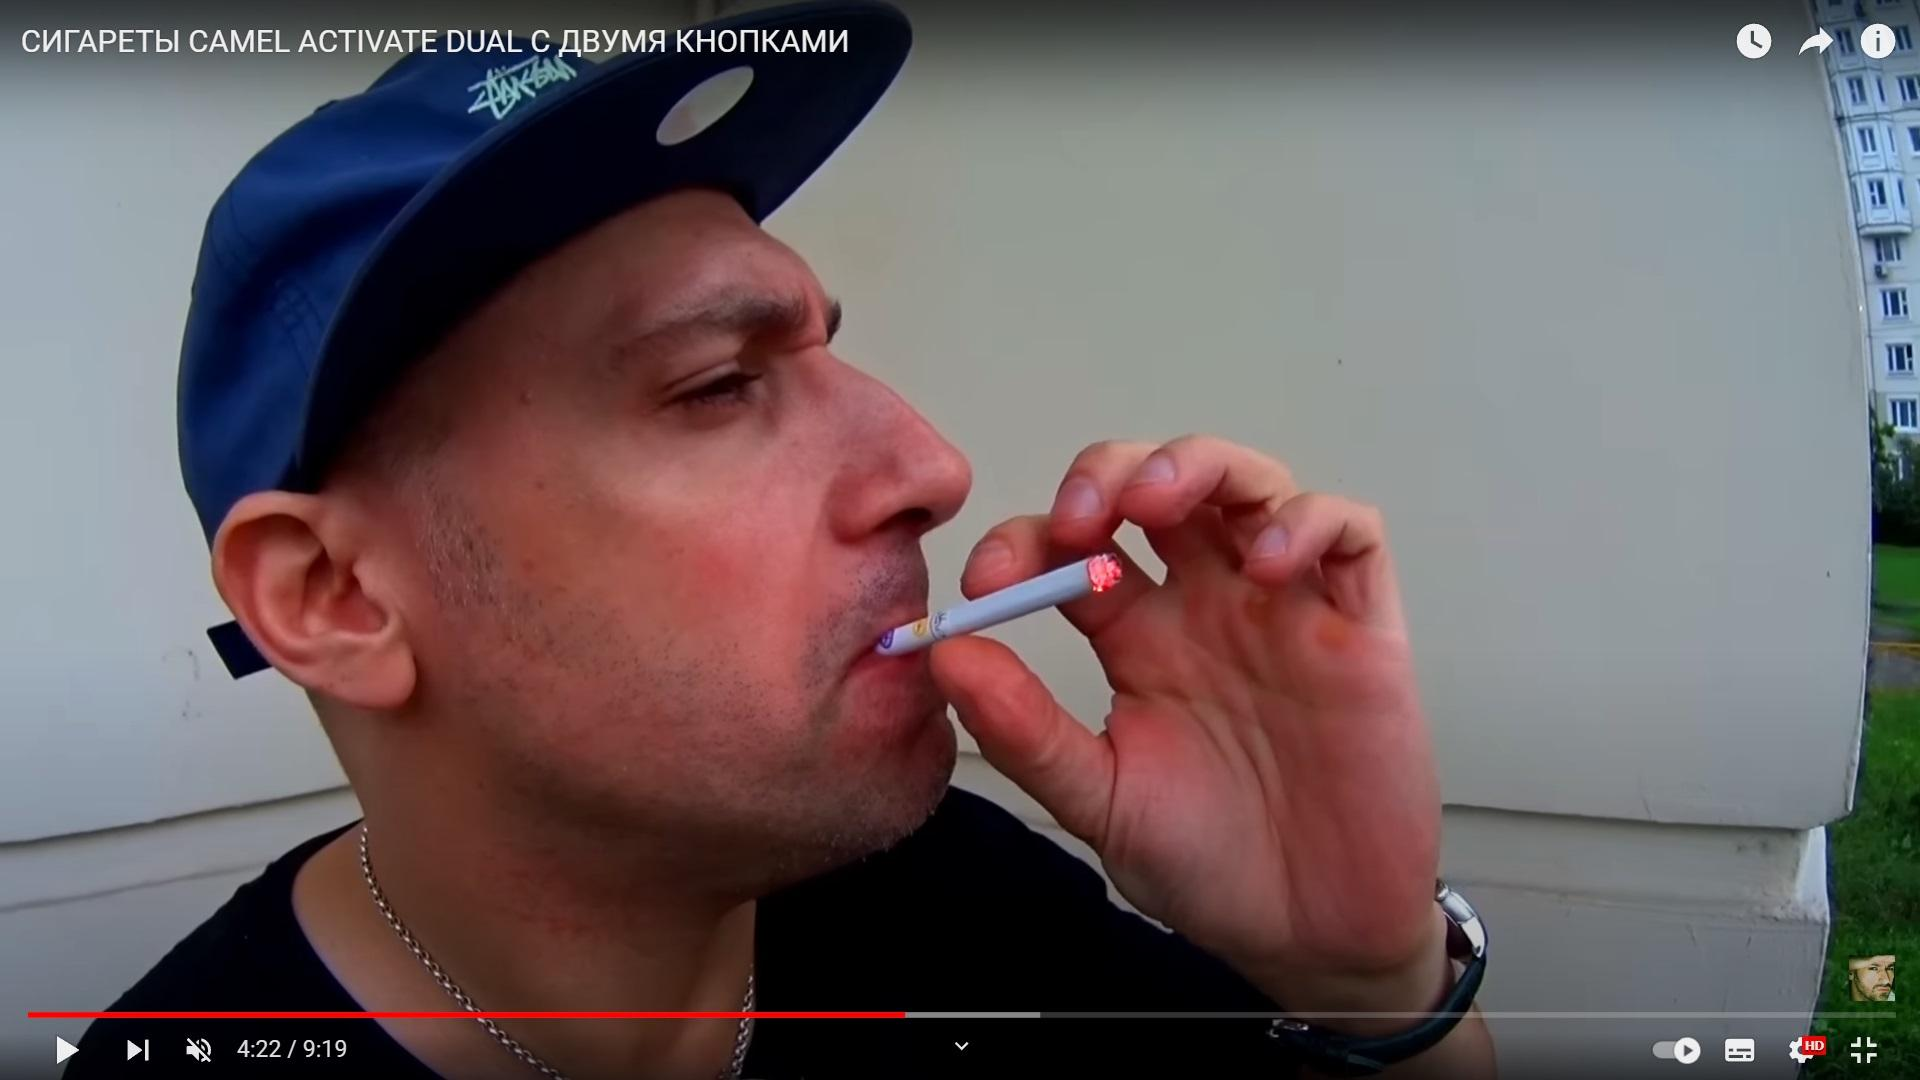cigarette: (872, 553, 1125, 658)
